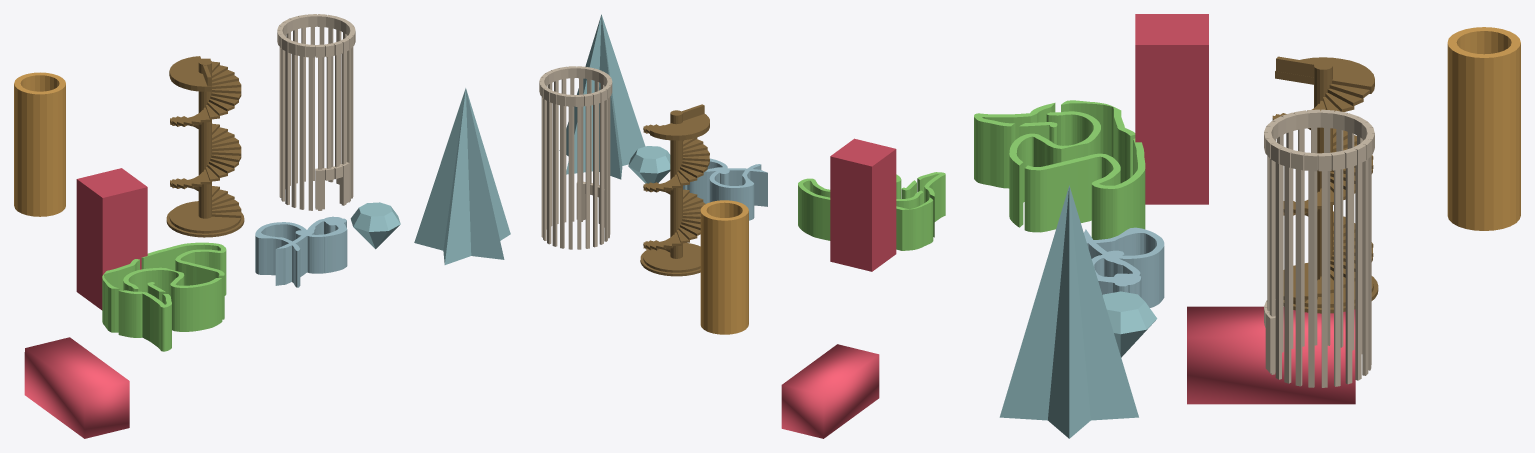
Rendered from blender.glb.
3 views of the same model, side by side, from view 1: azimuth 30°, elevation 25°; view 2: azimuth 150°, elevation 25°; view 3: azimuth 270°, elevation 25° (orthographic). The views are drawn at different scales.
Parts seen in each view (by area): view 1: Mesh_Mesh_head_geo.001_lambert2SG.001, obj_0; view 2: Mesh_Mesh_head_geo.001_lambert2SG.001, obj_0; view 3: Mesh_Mesh_head_geo.001_lambert2SG.001, obj_0.
Boxes of the visible parts, bbox=[...] form: Mesh_Mesh_head_geo.001_lambert2SG.001: bbox=[14, 14, 510, 351]; obj_0: bbox=[24, 337, 129, 438]; Mesh_Mesh_head_geo.001_lambert2SG.001: bbox=[539, 14, 945, 334]; obj_0: bbox=[781, 344, 879, 438]; Mesh_Mesh_head_geo.001_lambert2SG.001: bbox=[974, 14, 1520, 438]; obj_0: bbox=[1187, 306, 1355, 404].
Size of the model in its own units: 178 by 130 by 149.
